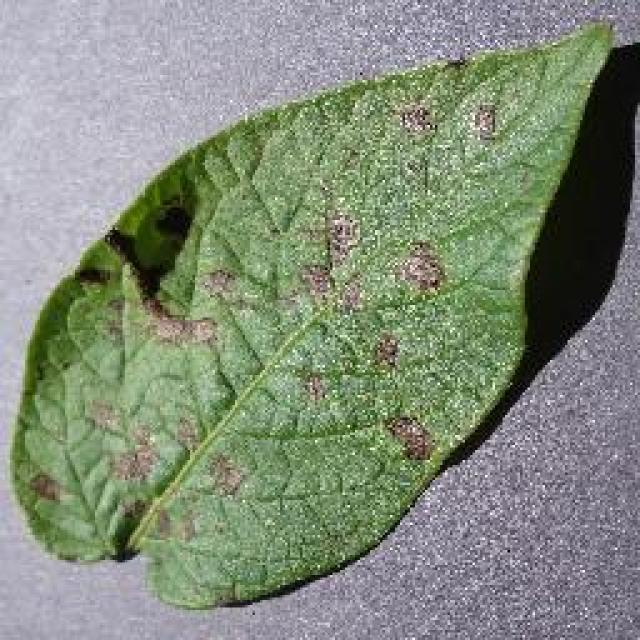early_blight: (5, 15, 620, 613)
